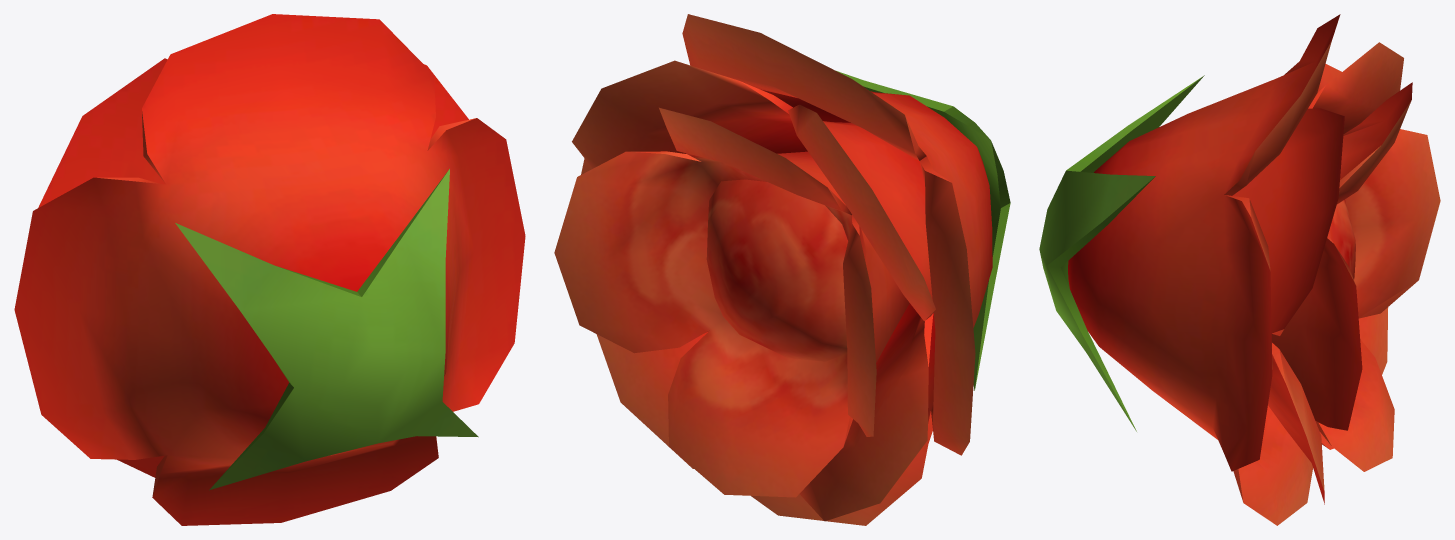
File: rose.fbx
The picture shows the model from 3 angles, left to right: view 1: azimuth 30°, elevation 25°; view 2: azimuth 150°, elevation 25°; view 3: azimuth 270°, elevation 25°; orthographic projection. The views are drawn at different scales.
Parts seen in each view (by area): view 1: rose; view 2: rose; view 3: rose.
Part boxes in pixels (box(x1,y1,x2,y2)): rose: box(14, 14, 525, 525); rose: box(554, 14, 1010, 525); rose: box(1039, 14, 1440, 525).
Bounding box in the file's own units: 0.136 × 0.1411 × 0.1103.
Materials: 1 (1 with a texture image).
